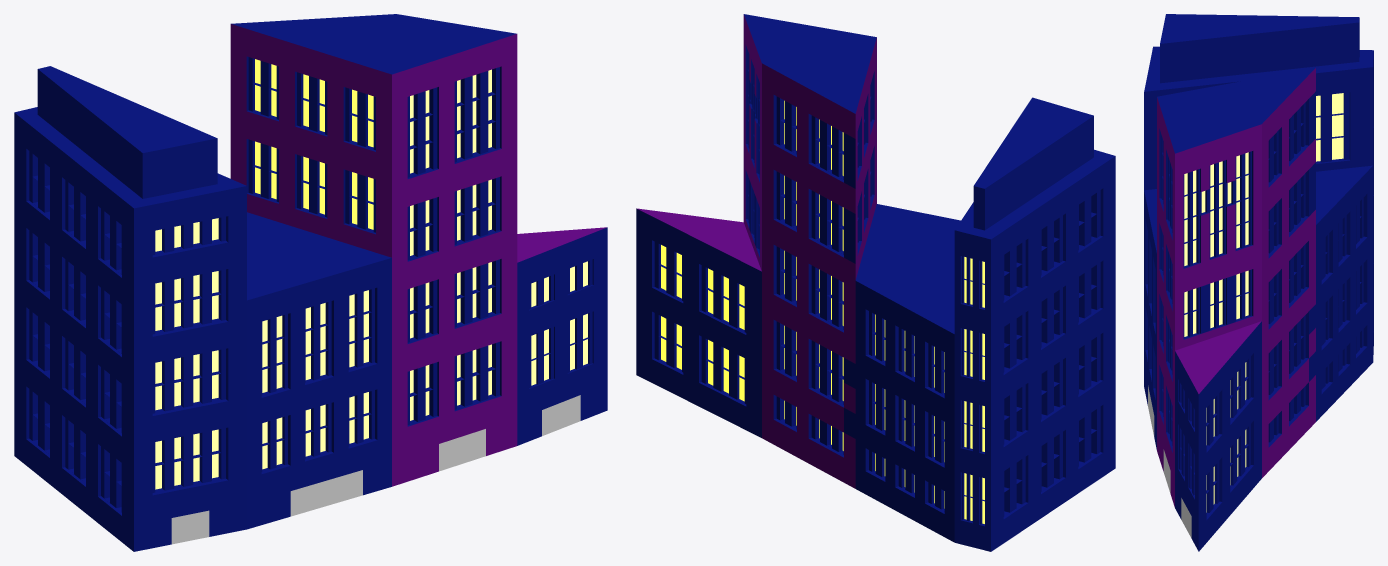
File: london_complex.fbx
The picture shows the model from 3 angles, left to right: view 1: azimuth 30°, elevation 25°; view 2: azimuth 150°, elevation 25°; view 3: azimuth 270°, elevation 25°; orthographic projection. The views are drawn at different scales.
Visible parts, largest first — view 1: Plane; view 2: Plane; view 3: Plane.
Part boxes in pixels (bbox=[...]): Plane: bbox=[14, 14, 607, 551]; Plane: bbox=[636, 14, 1115, 551]; Plane: bbox=[1144, 14, 1373, 551].
Size of the model in its own units: 2286 by 1800 by 1057.
